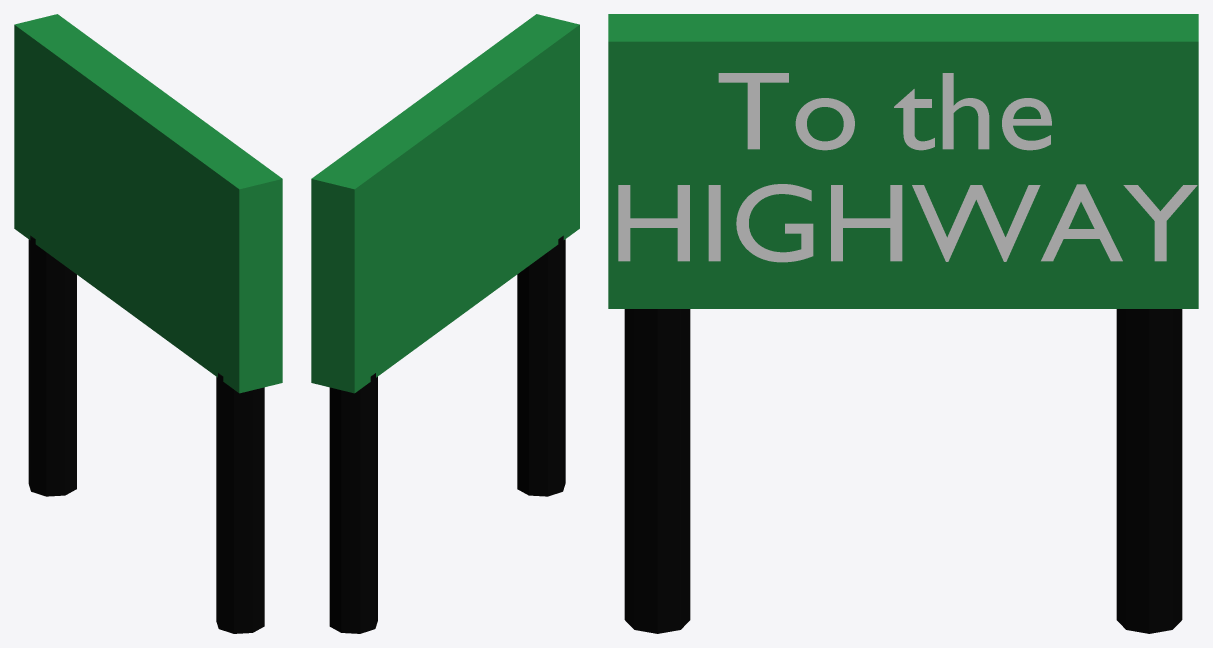
The model's file is HighwaySign.fbx.
3 views of the same model, side by side, from view 1: azimuth 30°, elevation 25°; view 2: azimuth 150°, elevation 25°; view 3: azimuth 270°, elevation 25° (orthographic). The views are drawn at different scales.
Visible parts, largest first — view 1: To the highway; view 2: To the highway; view 3: To the highway.
Part boxes in pixels (x1,y1,x2,y2): To the highway: [14, 14, 282, 633]; To the highway: [311, 14, 579, 633]; To the highway: [608, 14, 1198, 633].
Size of the model in its own units: 211 by 1800 by 1997.
